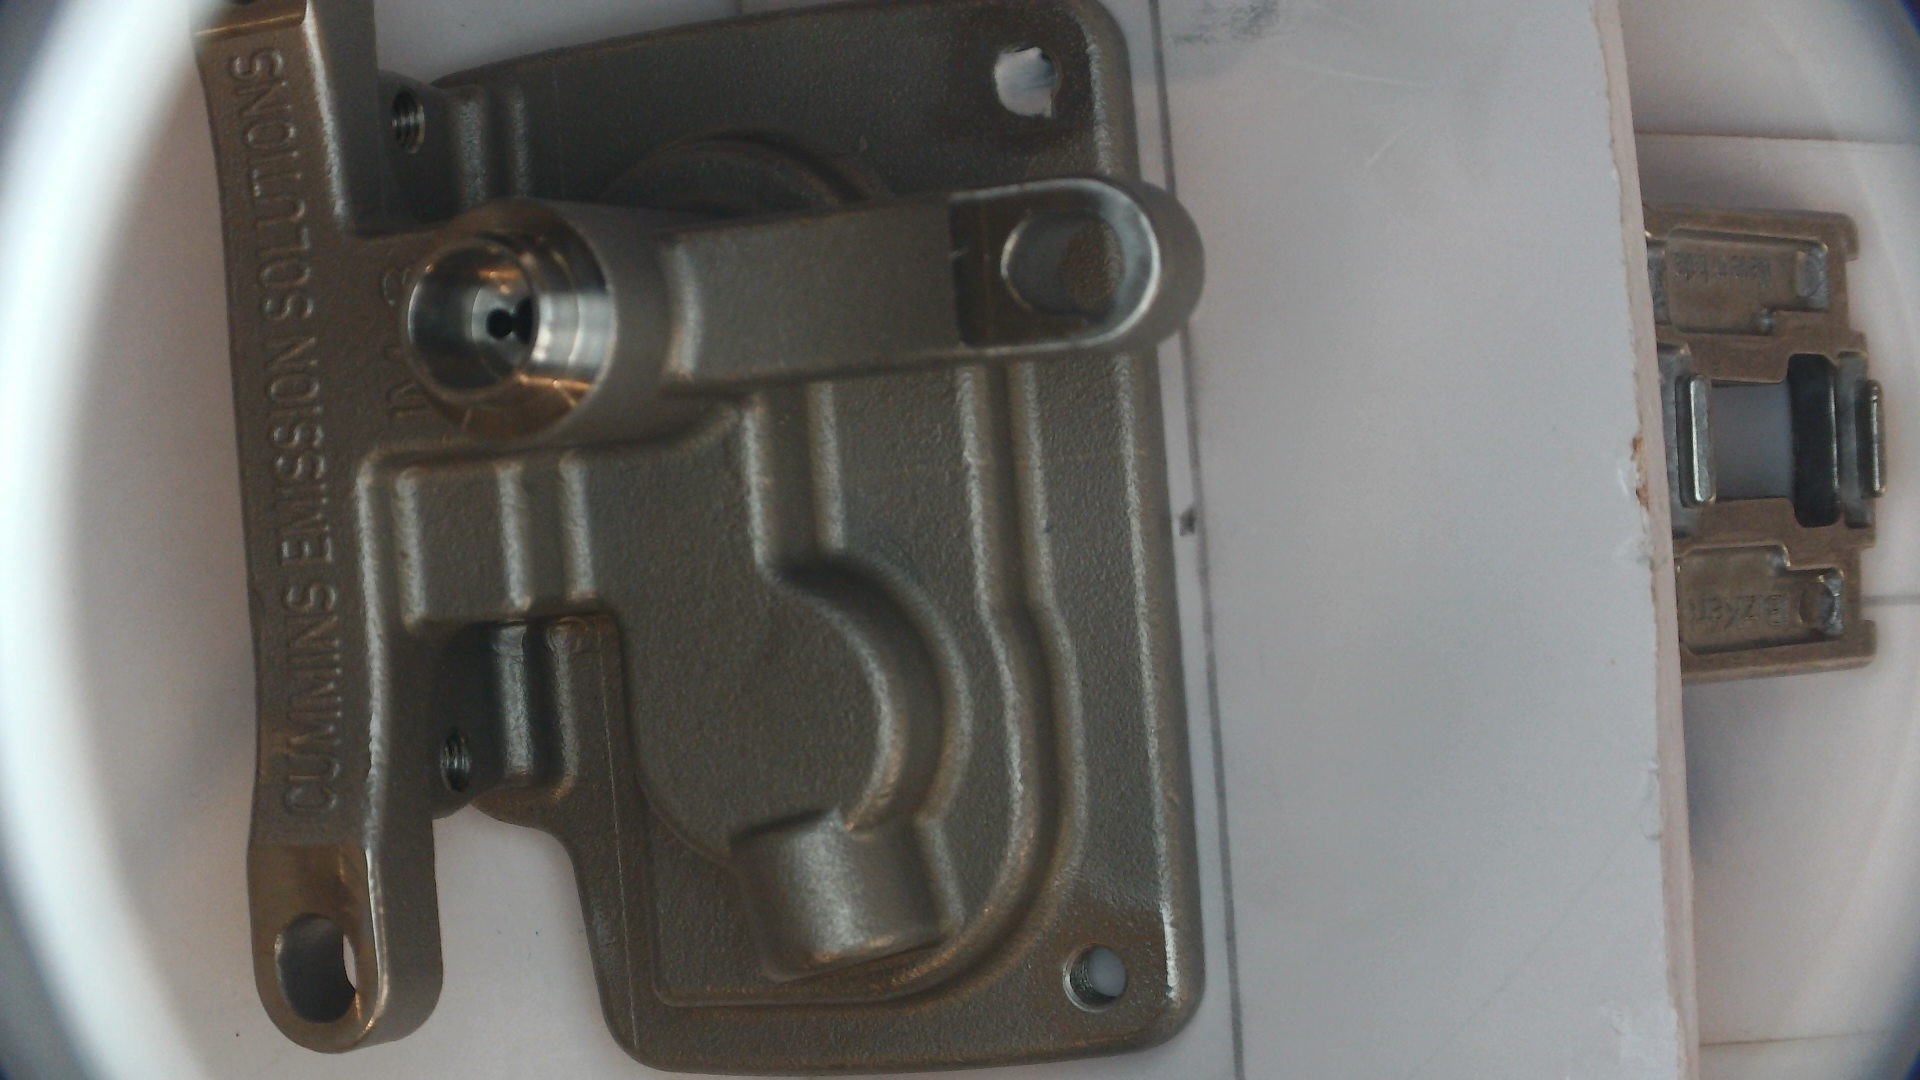thread_absence: (985, 32, 1073, 123)
thread_presence: (1055, 938, 1116, 1019), (389, 80, 429, 157), (442, 729, 477, 796)
